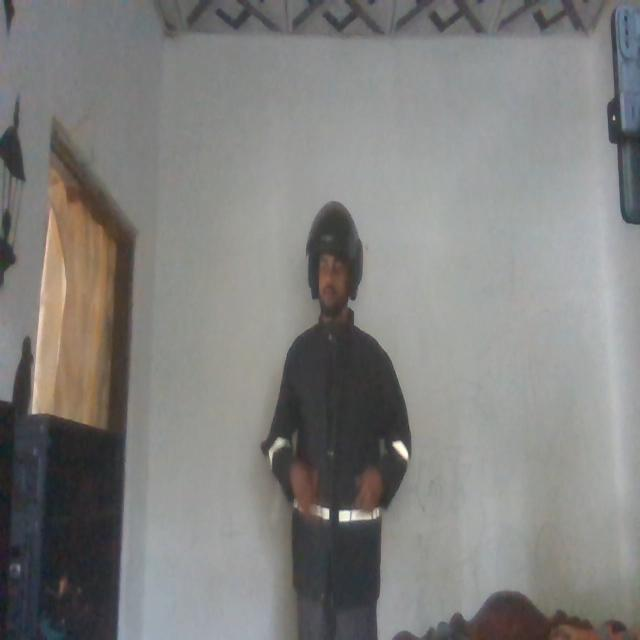Helmet_Wearer: (300, 200, 364, 324)
Jacket_Wearer: (262, 316, 414, 598)
Person: (262, 201, 416, 640)
